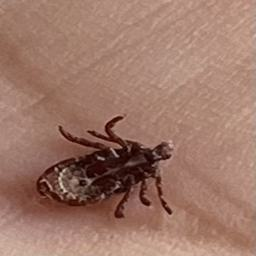Dermacentor variabilis: (37, 115, 186, 223)
